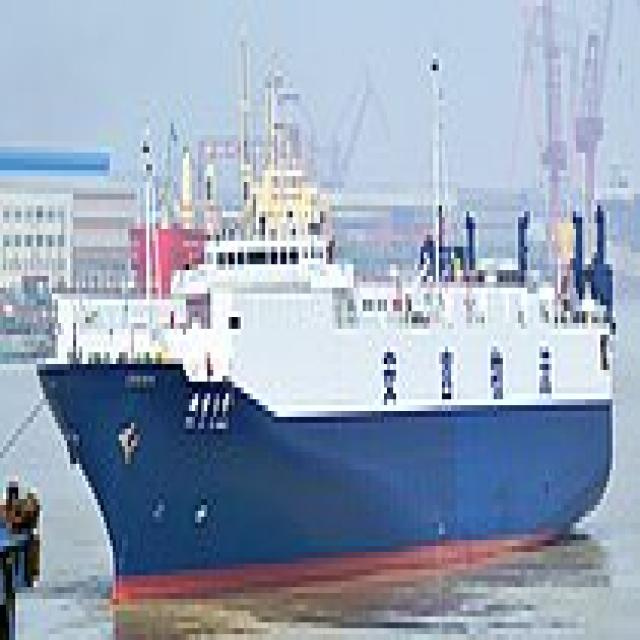Carrier: (27, 170, 618, 611)
